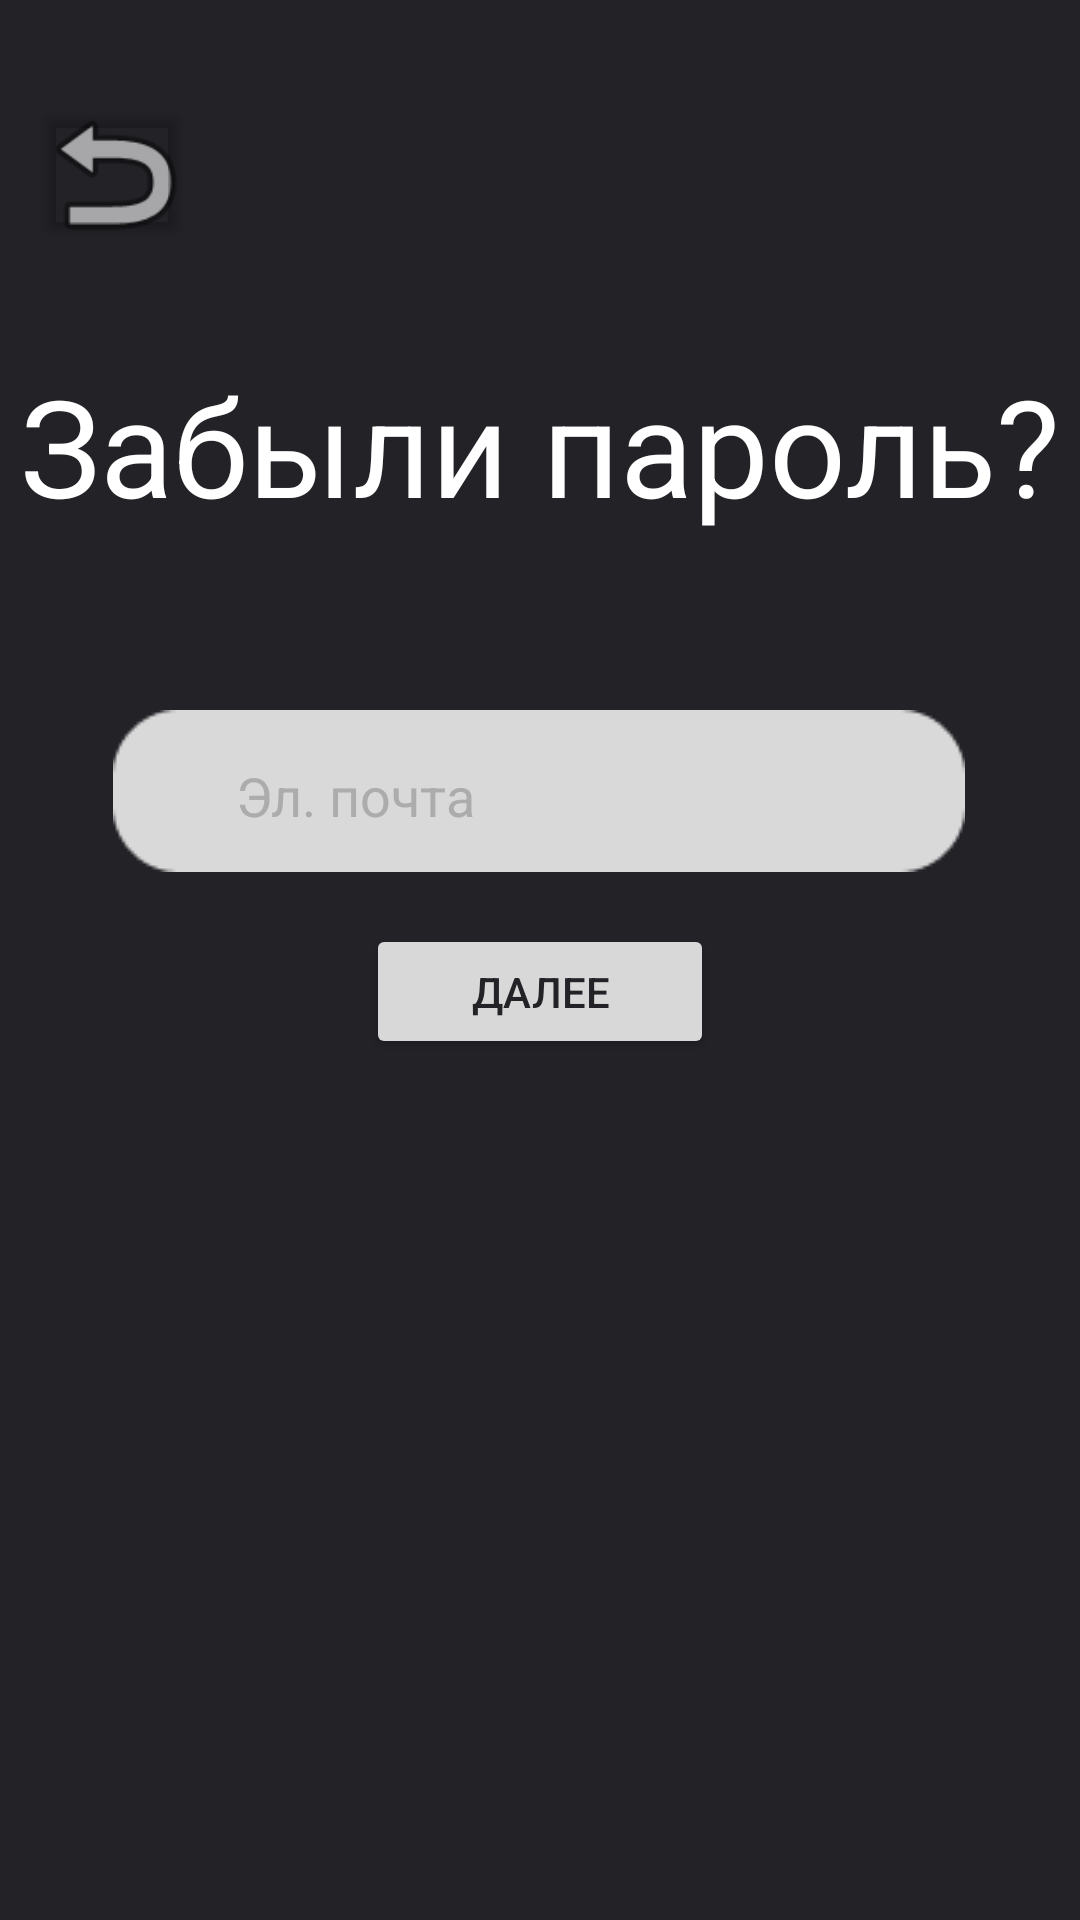

Icon click points for this 1080w x 1920h phone screenshot, format (x,y):
revert: (116,175)
